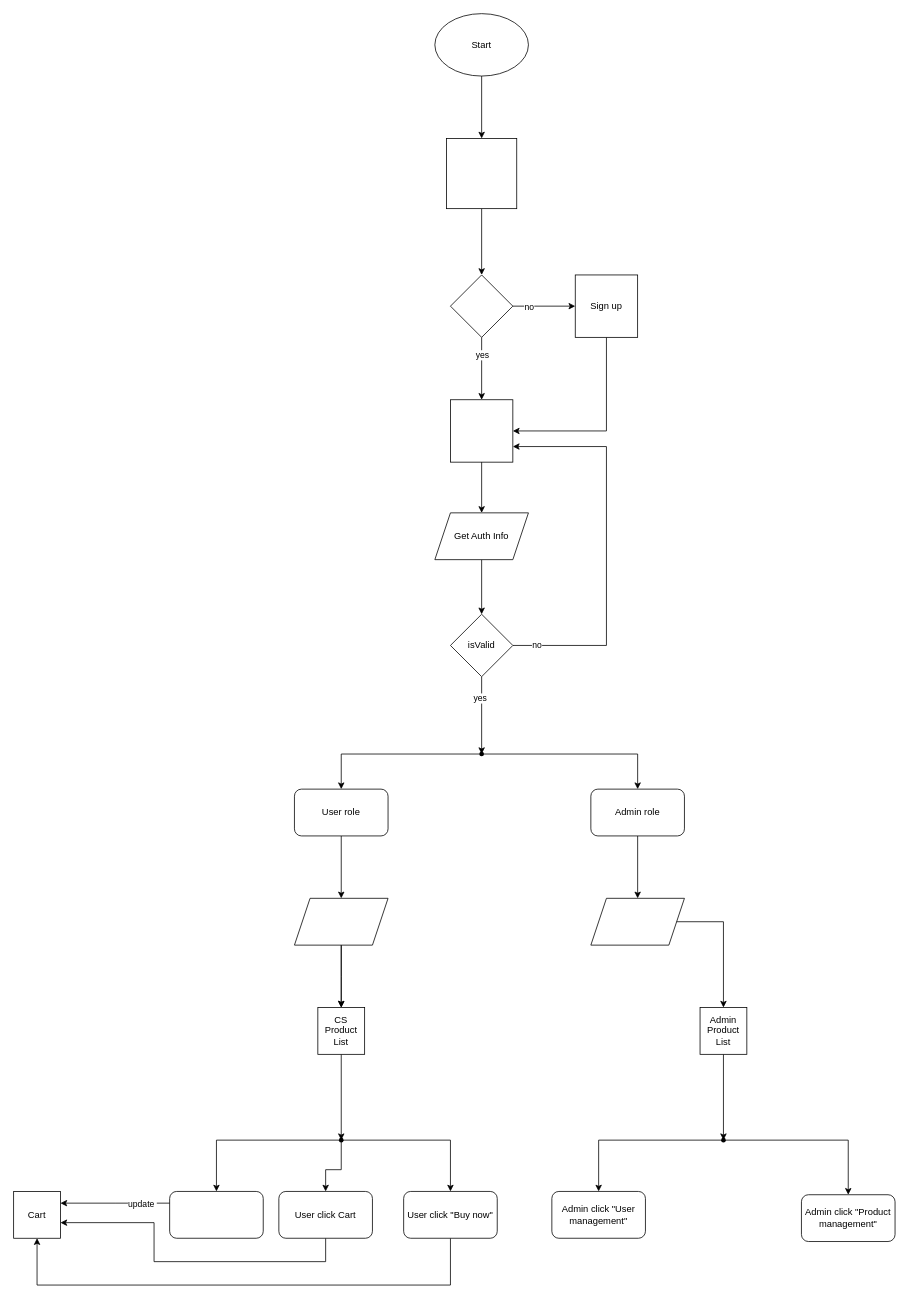
Image size: 909x1305. Some labels were removed from this diagram. The centre of each missing label's shape, as x and y in pixels:
Get AM info: [637,921]
Get CS info: [341,921]
haveAccount: [481,305]
Landing Page: [481,173]
Sign in: [481,430]
User click "Add to Cart": [216,1214]
